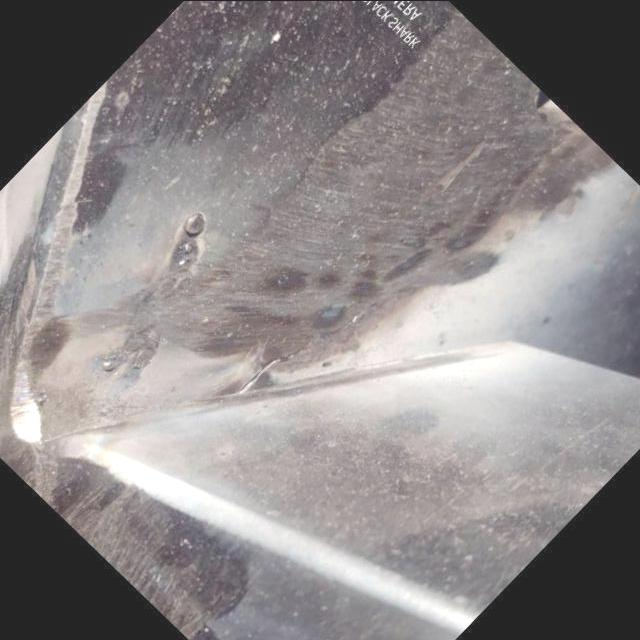defect: (232, 305, 369, 401)
